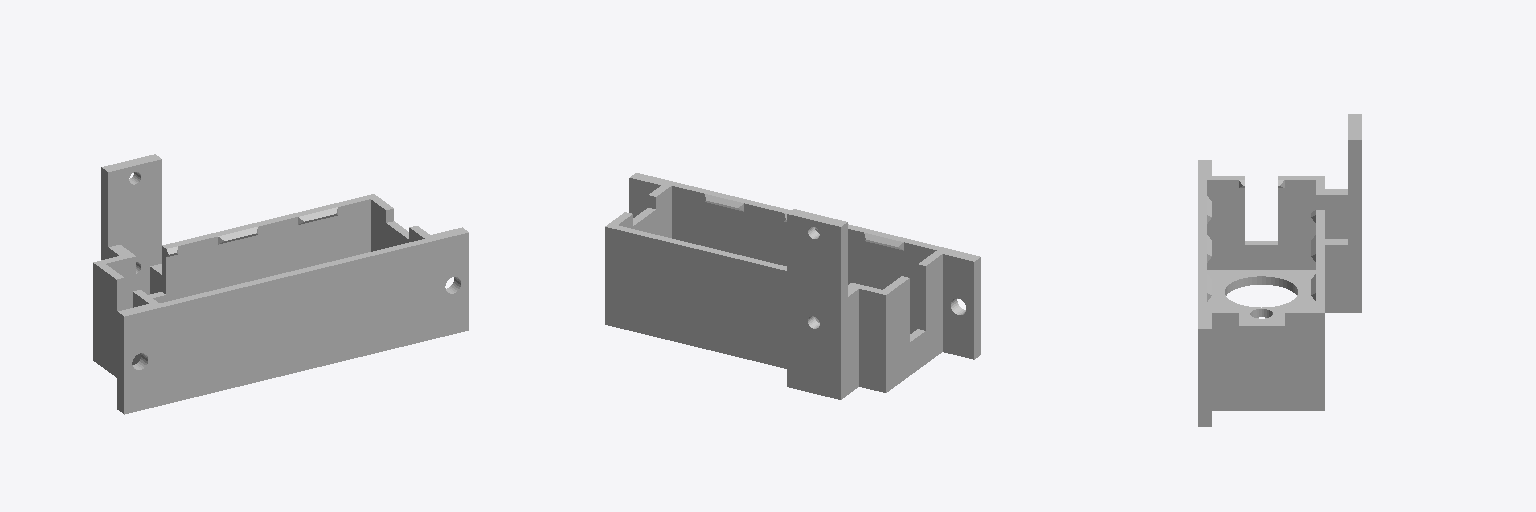
The model's file is motor_right_b.obj.
The picture shows the model from 3 angles: view 1: azimuth 30°, elevation 25°; view 2: azimuth 150°, elevation 25°; view 3: azimuth 270°, elevation 25°; orthographic projection.
Visible parts, largest first — view 1: Body1; view 2: Body1; view 3: Body1.
Part boxes in pixels (x1,y1,x2,y2): Body1: (93, 154, 468, 414); Body1: (605, 173, 980, 399); Body1: (1198, 114, 1361, 426).
Size of the model in its own units: 86.5 by 41.51 by 35.5.